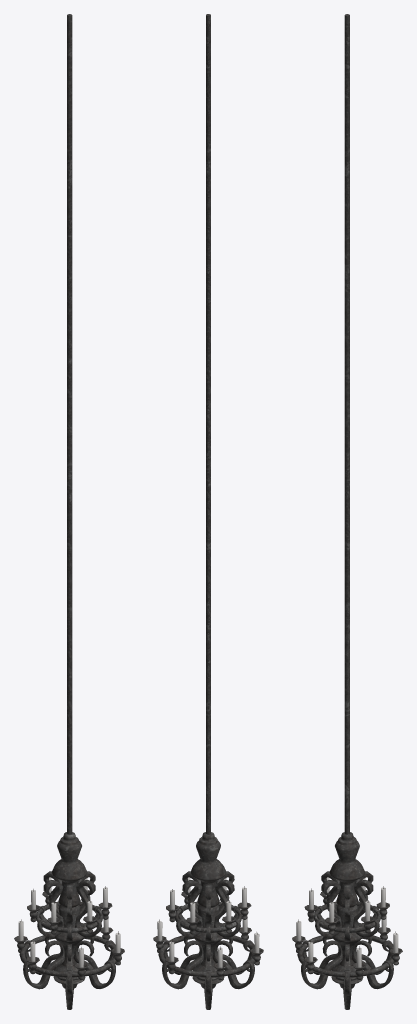
Rendered from Chandelier.fbx.
3 renders of one model, left to right at view 1: azimuth 90°, elevation 25°; view 2: azimuth 210°, elevation 25°; view 3: azimuth 270°, elevation 25°, orthographic.
Parts seen in each view (by area): view 1: Chandelier; view 2: Chandelier; view 3: Chandelier.
Boxes of the visible parts, x1,y1,x2,y2 form: Chandelier: (14,14,124,1009); Chandelier: (153,14,263,1009); Chandelier: (292,14,402,1009).
Bounding box in the file's own units: 2 × 19.47 × 1.97.
